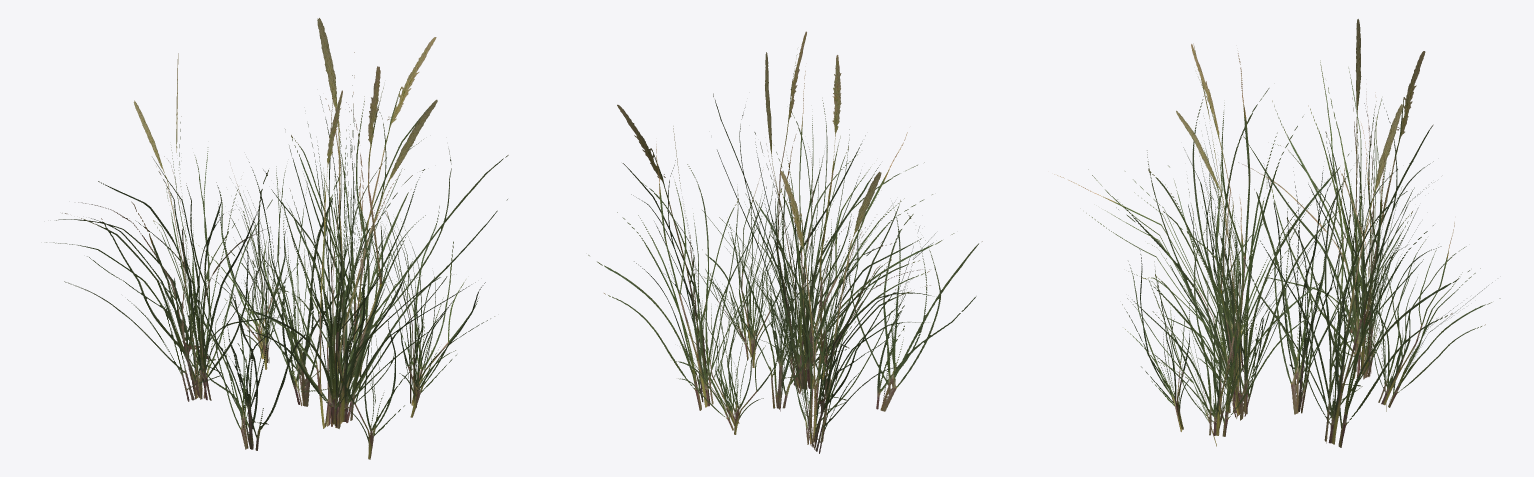
Rendered from beach_grass_02_2.fbx.
3 views of the same model, side by side, from view 1: azimuth 30°, elevation 25°; view 2: azimuth 150°, elevation 25°; view 3: azimuth 270°, elevation 25° (orthographic). The views are drawn at different scales.
Visible parts, largest first — view 1: beach_grass_02_2_LOD0; view 2: beach_grass_02_2_LOD0; view 3: beach_grass_02_2_LOD0.
Boxes of the visible parts, x1,y1,x2,y2 form: beach_grass_02_2_LOD0: (46, 18, 508, 459); beach_grass_02_2_LOD0: (588, 31, 982, 453); beach_grass_02_2_LOD0: (1054, 19, 1500, 447).
Size of what is drawn, in the model's own units: 70.44 by 68.72 by 70.44.
